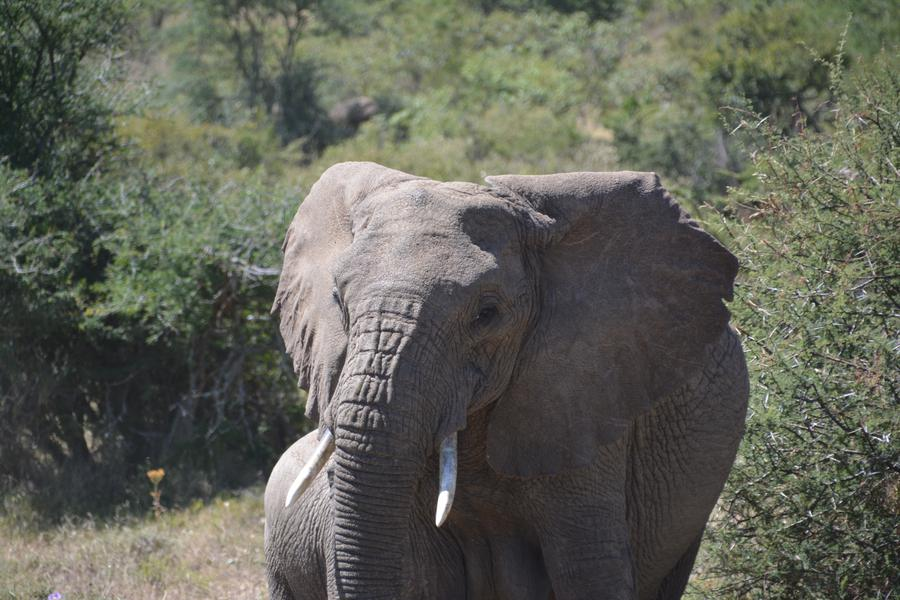elephant: (289, 160, 734, 585)
